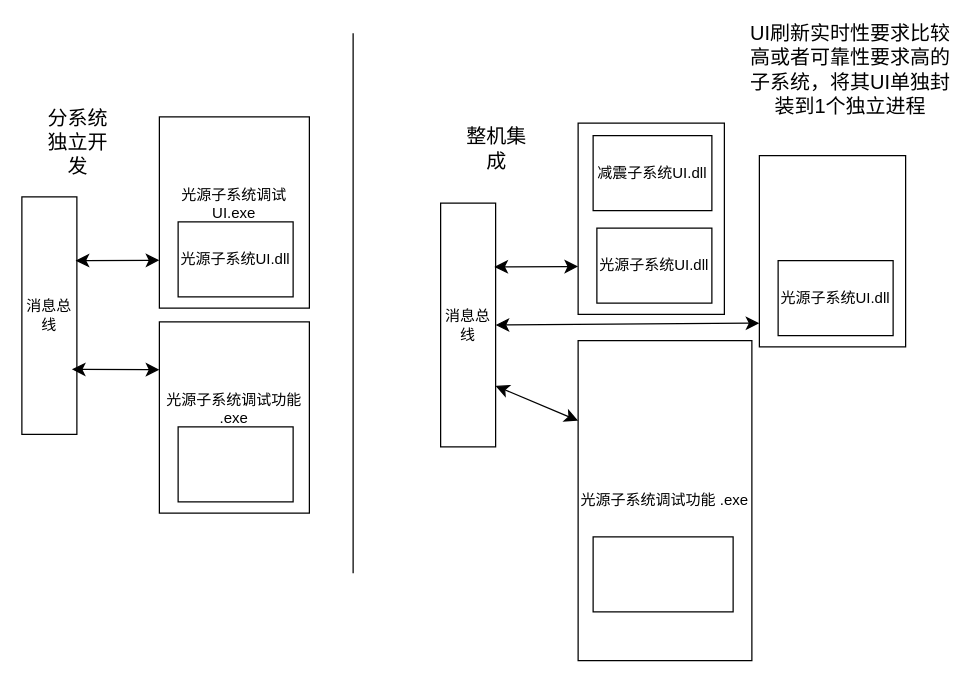
The diagram is 975 pixels wide and 683 high, and some of its shapes have lost their labels. Here are the shapes that lost their labels. From the top down, the centre of each, then its label:
At point 235,464: "分系统功能UI.dll".
At point 662,574: "光源子系统功能.dll".
